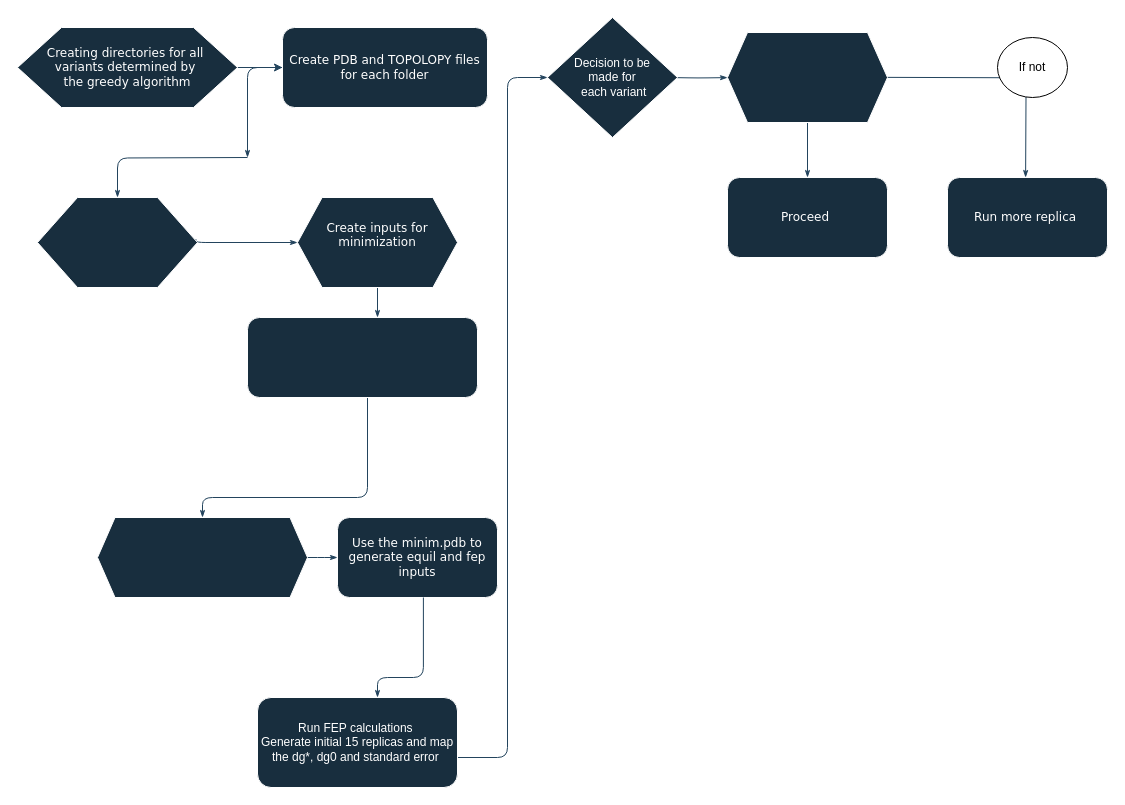
This 1125x805 diagram has some shape labels left out. Each missing label, with the centre of its shape:
"Change mismatch atom names to match FEP file" belongs at point (117, 242).
"If standard error is <= 1 kcal/mol" belongs at point (807, 77).
"Run Minimization and collect relax_012.re (the last minimized restart file)" belongs at point (362, 357).
"Run preprestart to prepare pdb from last minimised restart file" belongs at point (202, 557).
